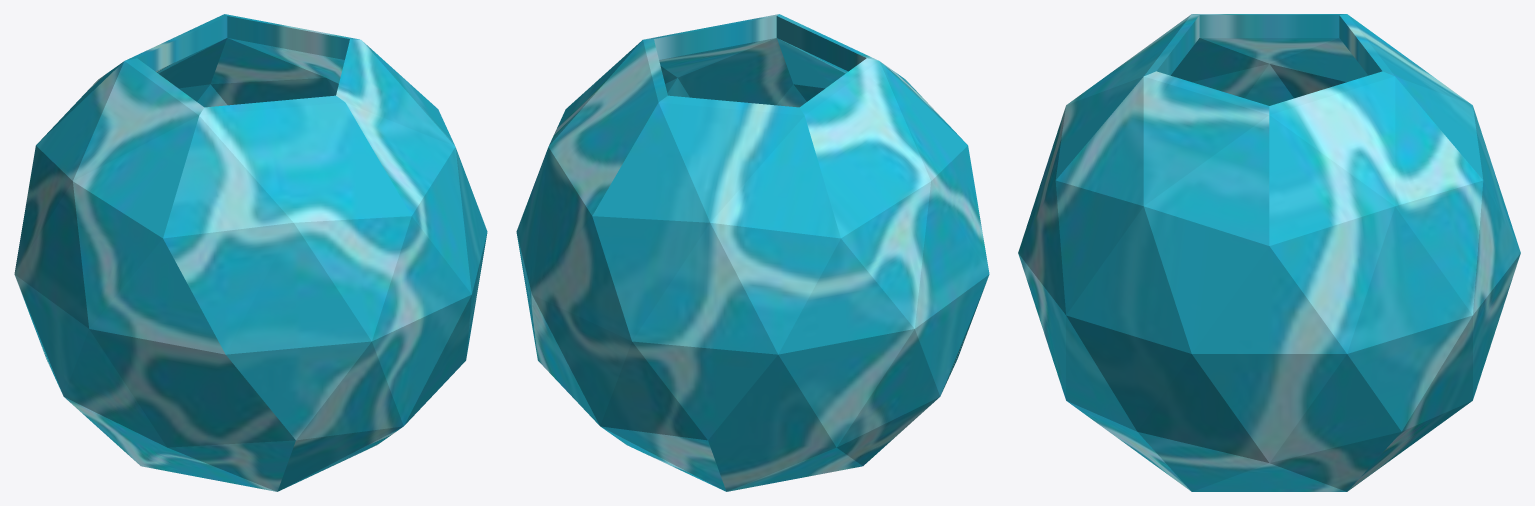
File: fishTank.obj
The picture shows the model from 3 angles, left to right: view 1: azimuth 30°, elevation 25°; view 2: azimuth 150°, elevation 25°; view 3: azimuth 270°, elevation 25°; orthographic projection. The views are drawn at different scales.
Visible parts, largest first — view 1: Icosphere_Material.002; view 2: Icosphere_Material.002; view 3: Icosphere_Material.002.
Part boxes in pixels (box(x1,y1,x2,y2)): Icosphere_Material.002: box(14, 14, 487, 491); Icosphere_Material.002: box(516, 14, 989, 491); Icosphere_Material.002: box(1018, 14, 1520, 491).
Bounding box in the file's own units: 3.8 × 3.73 × 4.
